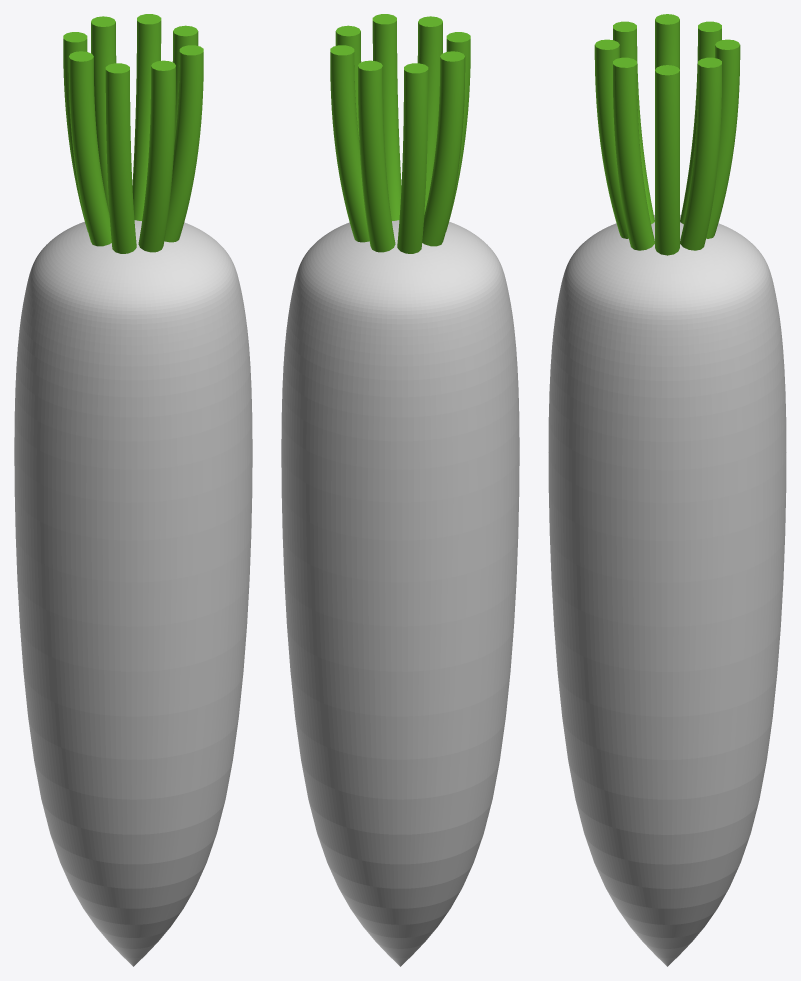
File: daikon_blender.fbx
3 views of the same model, side by side, from view 1: azimuth 30°, elevation 25°; view 2: azimuth 150°, elevation 25°; view 3: azimuth 270°, elevation 25° (orthographic).
Parts seen in each view (by area): view 1: 球, NURBSパス; view 2: 球, NURBSパス; view 3: 球, NURBSパス.
Boxes of the visible parts, x1,y1,x2,y2 form: 球: (14,220,252,966); NURBSパス: (63,14,203,253); 球: (281,220,519,966); NURBSパス: (330,14,470,253); 球: (548,215,786,966); NURBSパス: (594,14,740,255).
Size of the model in its own units: 190 by 812 by 190.
